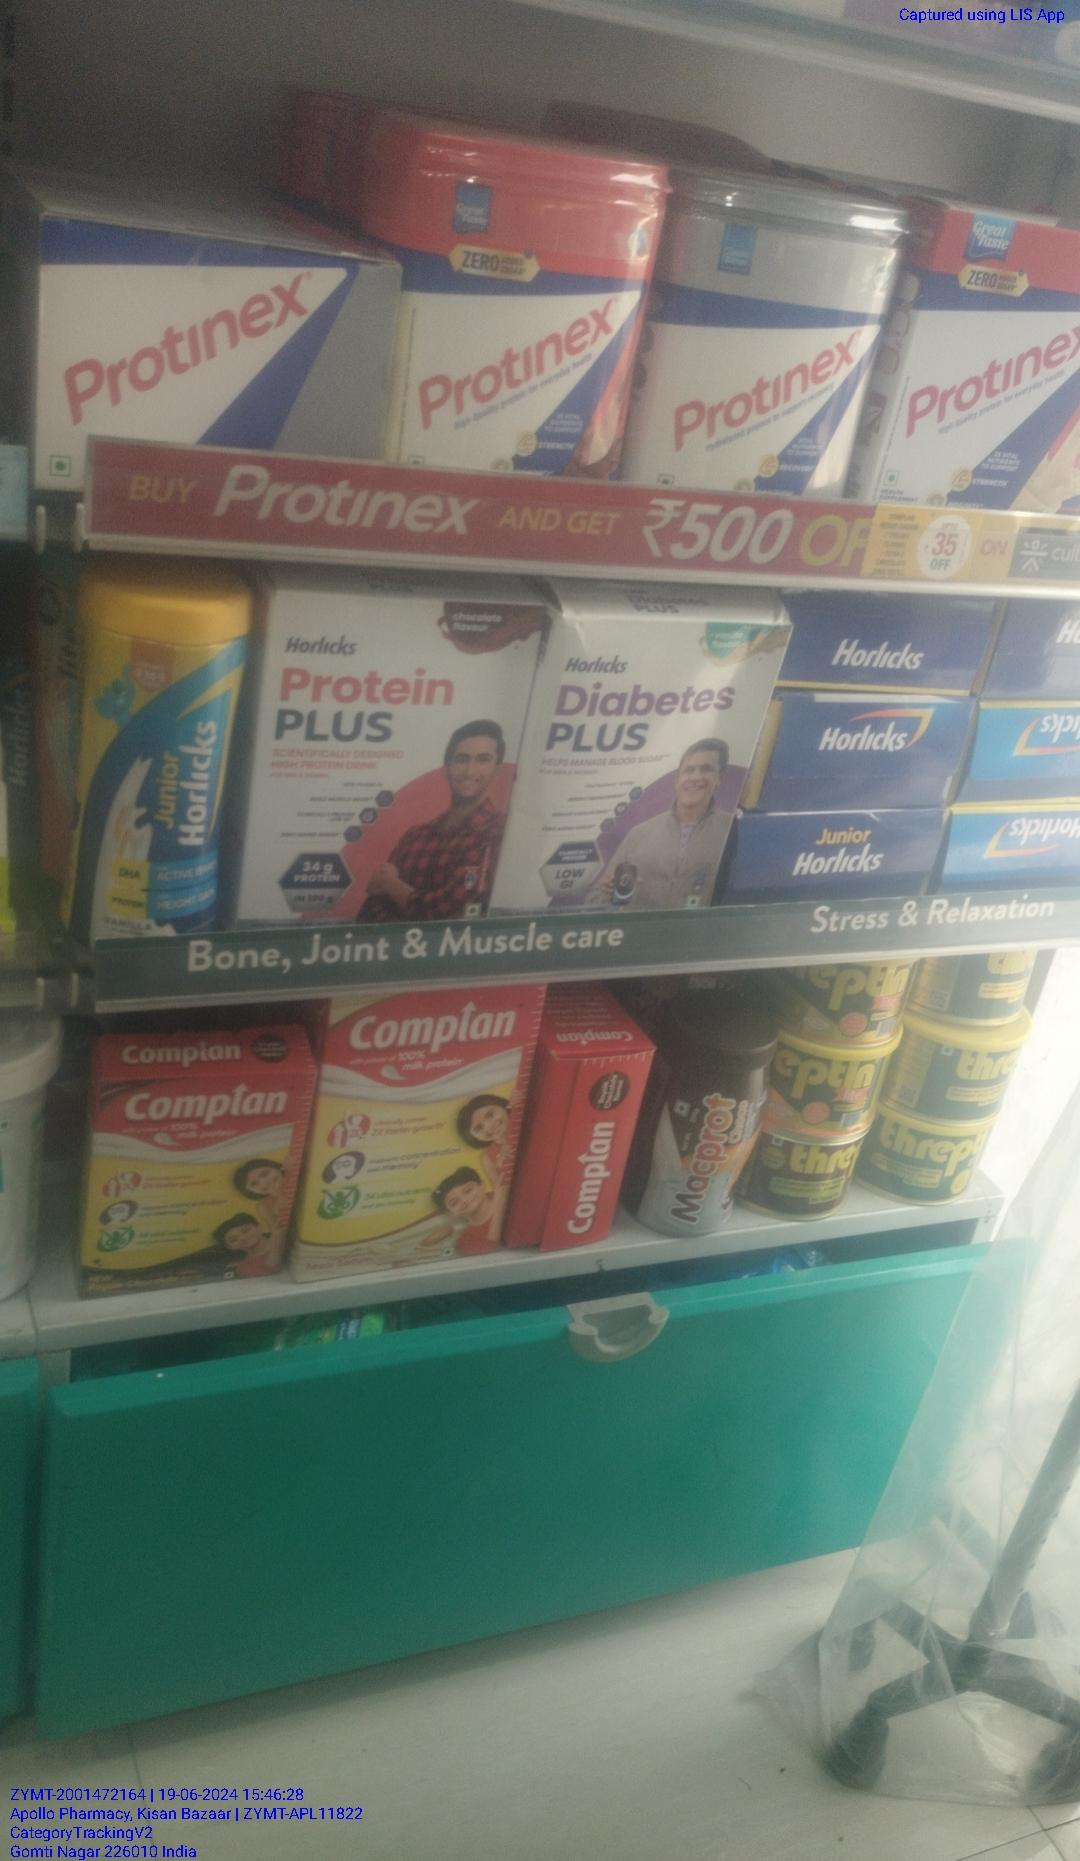HORLICKS_JUNIOR_VANILLA_500_GM_JAR: (80, 578, 228, 934)
PROTINEX_CHOCOLATE_400_G_JAR: (400, 129, 633, 474)
PROTINEX_ORIGINAL_400_G_JAR: (654, 174, 874, 497)
